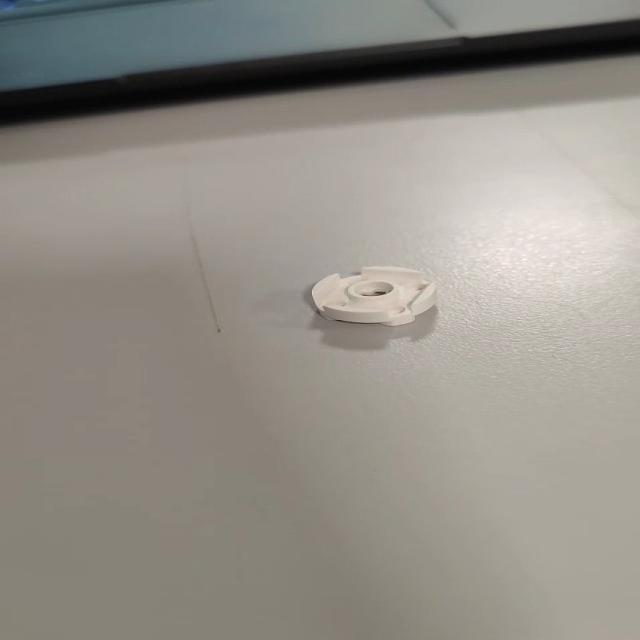S2x2x0: (308, 264, 439, 327)
